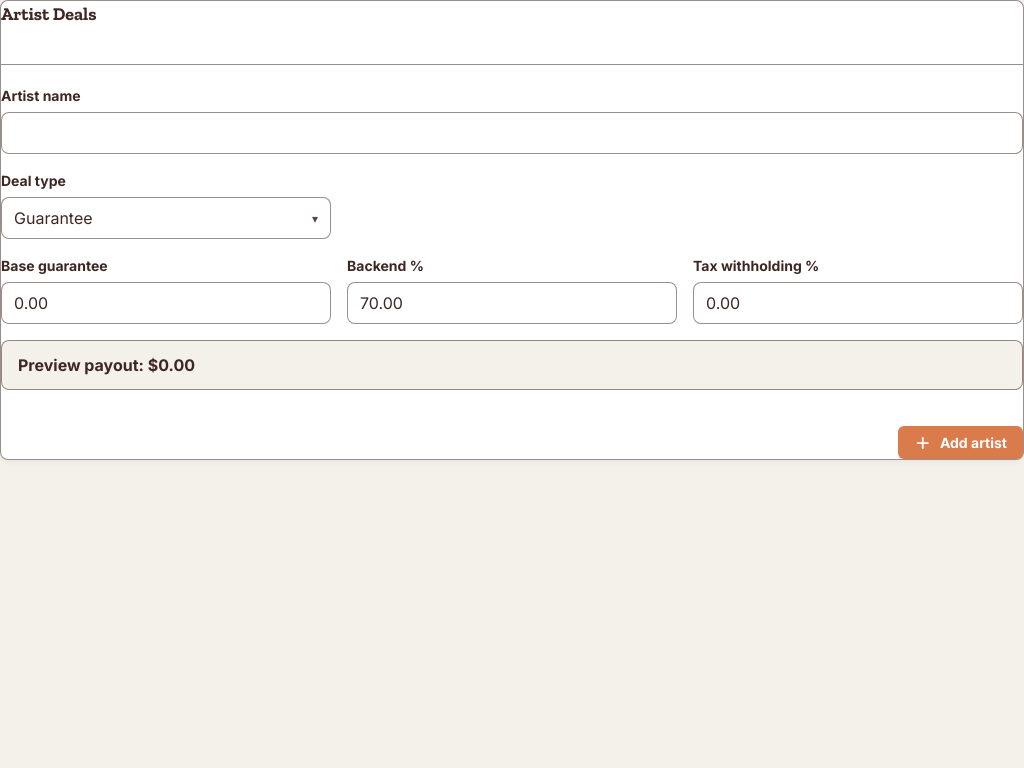
Test case: ArtistDealPanel › shows formula editor for custom deals and surfaces formula errors
The image size is (1024, 768).
Click the button with test id "deal-type-select" at (53, 218), box [1, 197, 331, 239]
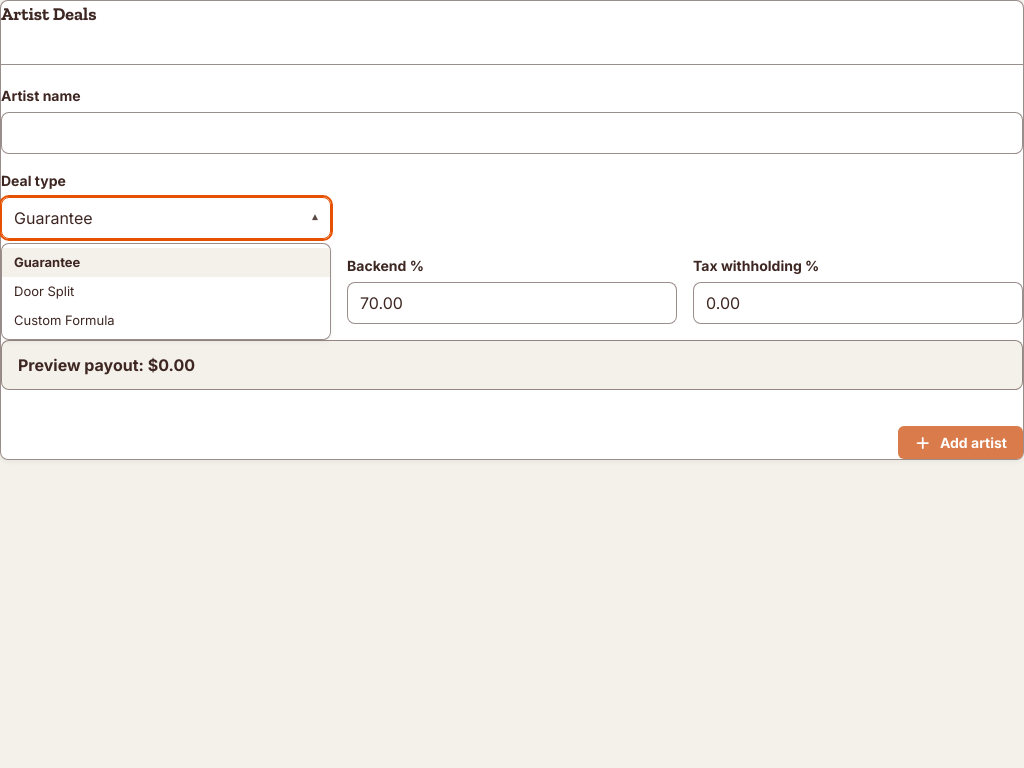
Click the option "Custom Formula" at (64, 320), box [2, 306, 330, 335]
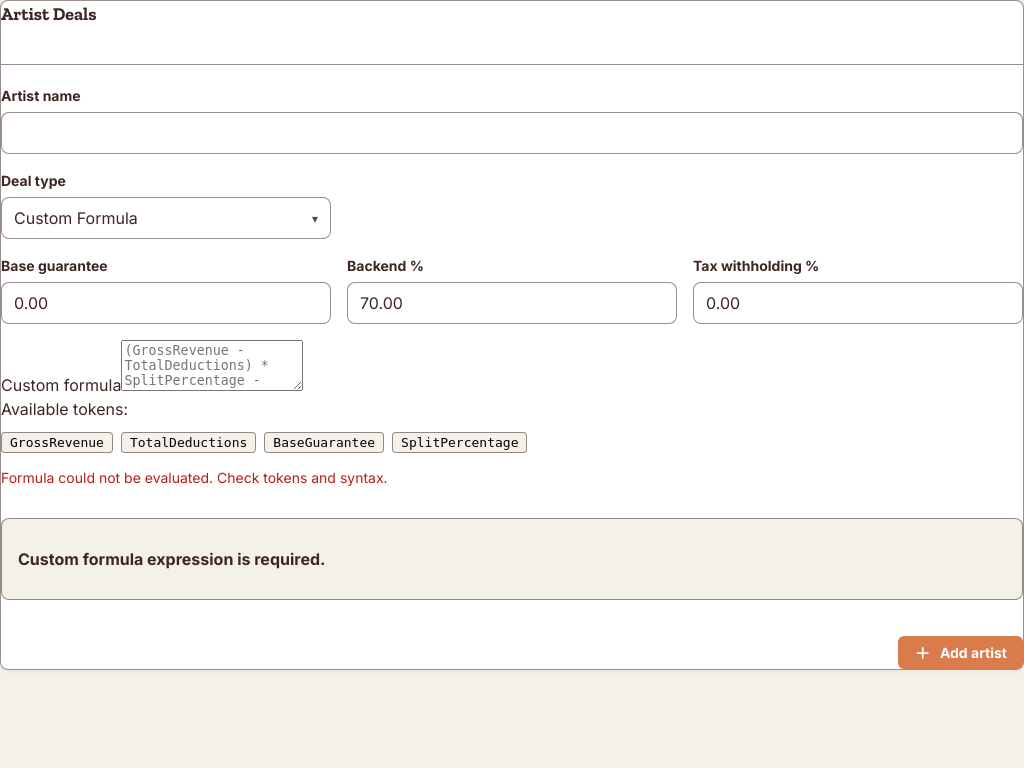
Expected: the element with test id "formula-editor" is shown, [1, 340, 646, 486]
Expected: the message with test id "formula-error" shows "Formula could not be evaluated", [1, 469, 388, 486]
